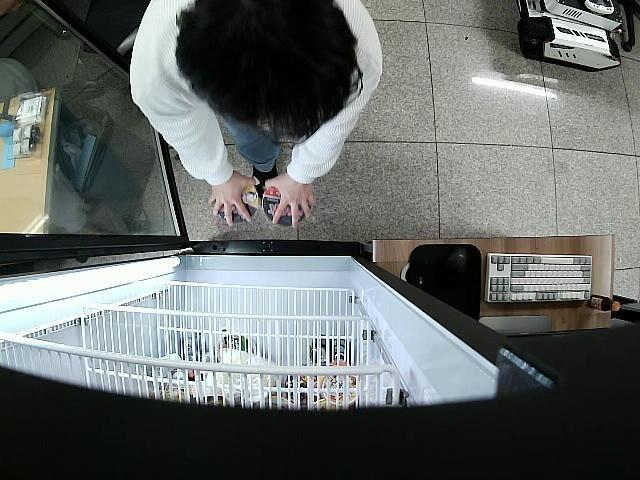07_buldak_L: (217, 182, 260, 226), (264, 185, 310, 226)
